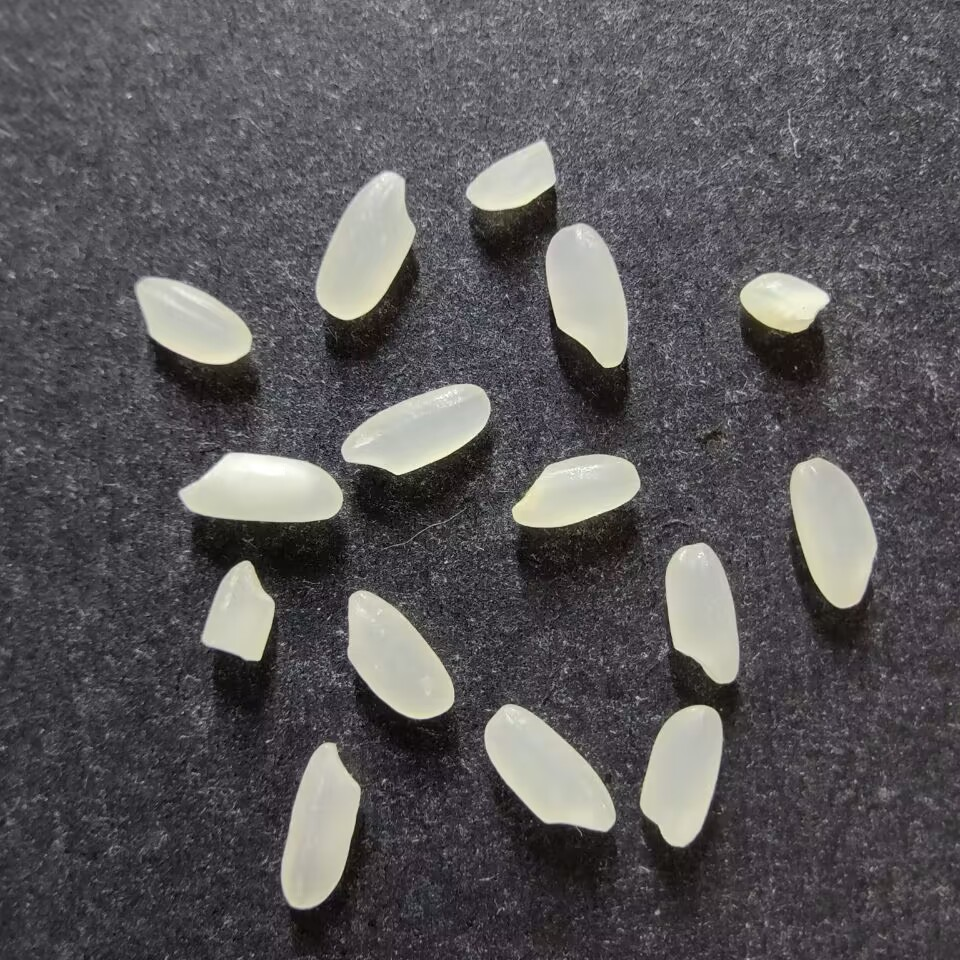broken: (200, 560, 275, 662), (465, 138, 557, 211), (739, 271, 829, 333)
rice: (483, 703, 617, 834), (314, 170, 415, 321), (346, 589, 455, 720), (340, 383, 491, 476), (279, 741, 361, 910), (788, 457, 877, 609), (544, 223, 628, 369), (638, 704, 723, 847), (178, 452, 341, 523), (664, 542, 740, 685), (135, 276, 252, 365), (511, 453, 640, 528)
